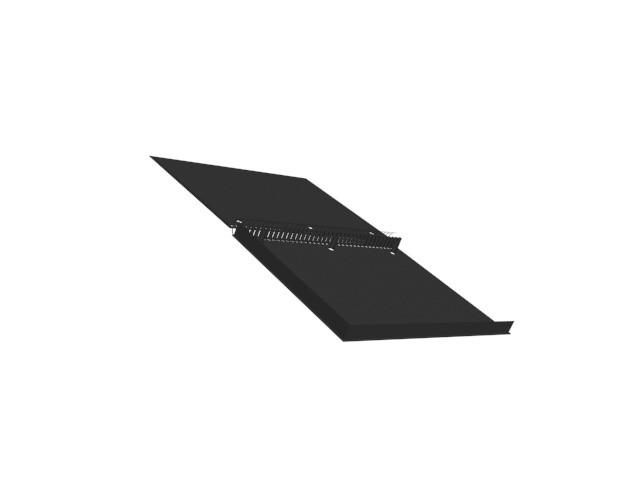paper_notebook: (145, 153, 520, 344)
